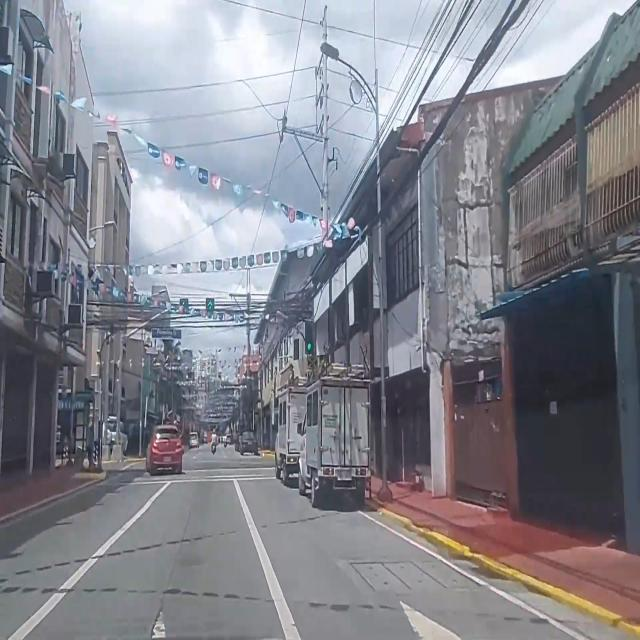car: (146, 425, 183, 475), (104, 416, 128, 456), (240, 431, 258, 456), (189, 431, 199, 448)
motorcycle: (211, 430, 217, 454), (224, 437, 228, 447)
truck: (298, 376, 371, 508), (275, 386, 307, 486)
